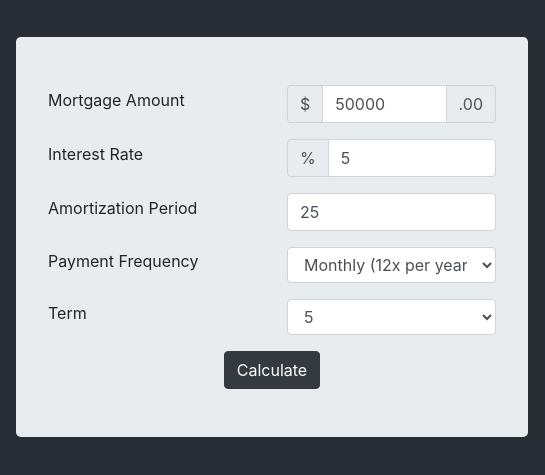
Test: Mortgage › Amortization Period error should be rendered if invalid value is entered
Replace the text in the number field with test id "amortization-period" with "31" at {"x": 392, "y": 212}, box x1=287 y1=193 x2=496 y2=231
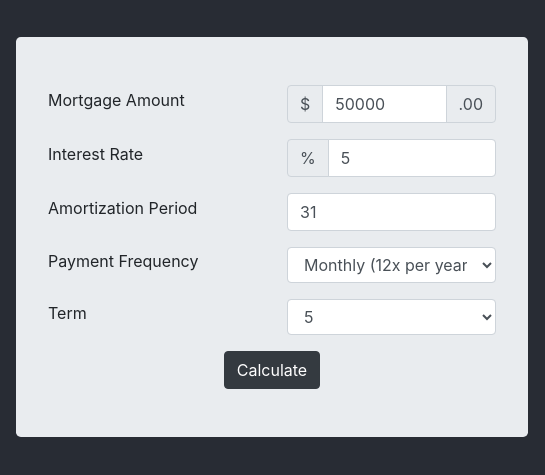
Click the button with test id "calculate-btn".
click(272, 370)  # box x1=224 y1=351 x2=320 y2=389
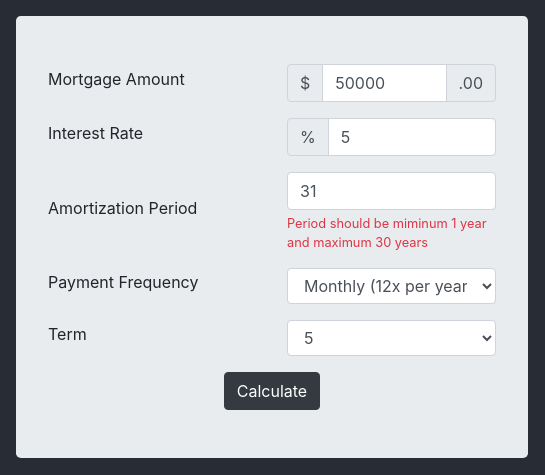
Now the text "Period should be miminum 1 year and maximum 30 years" is shown, box x1=287 y1=214 x2=496 y2=252
